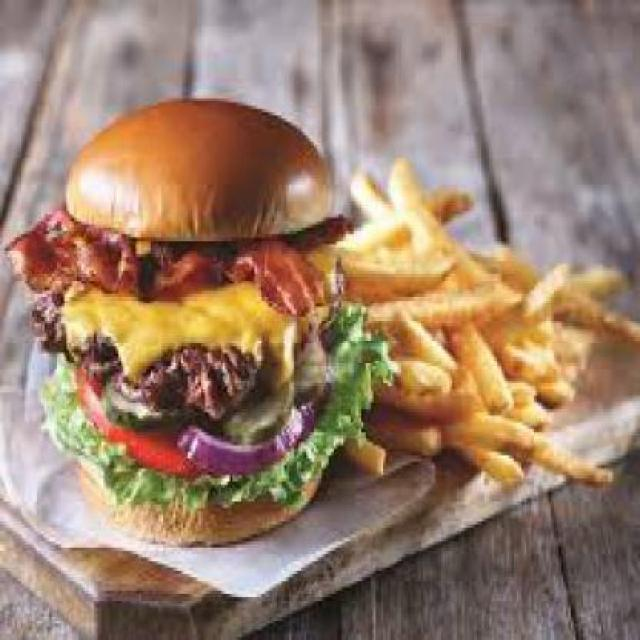french fries: (338, 142, 638, 492)
hamburger: (8, 82, 343, 548)
